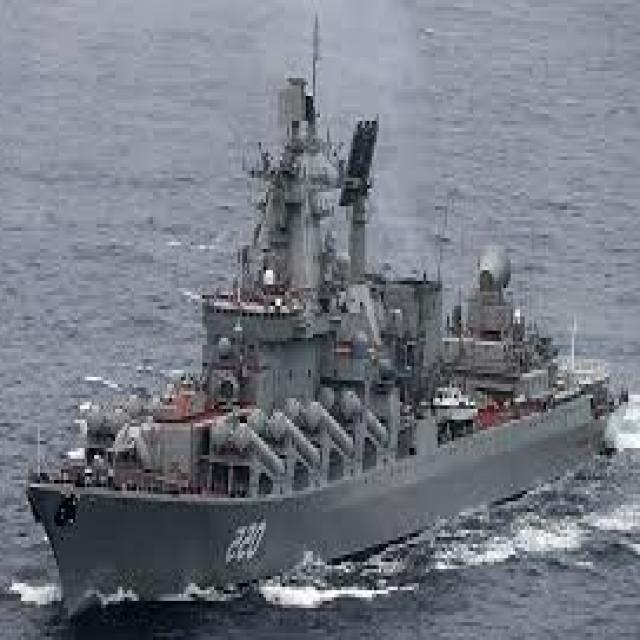navalvessels: (34, 19, 606, 610)
